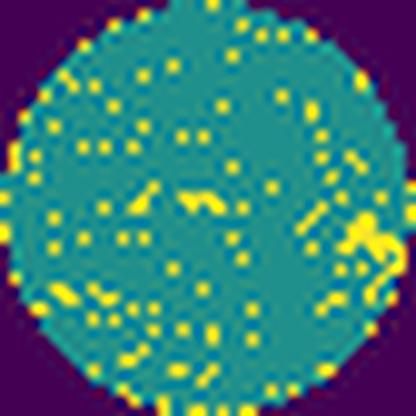Loc: (336, 210, 404, 293), (174, 182, 228, 219)
